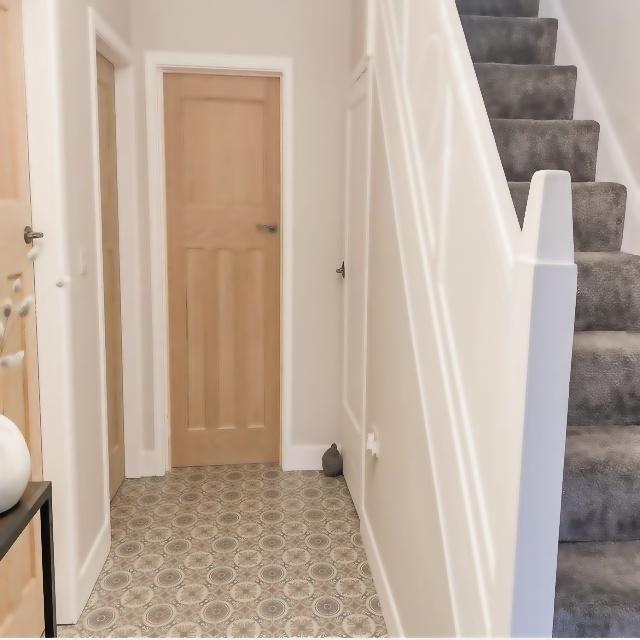door: (162, 69, 281, 467), (330, 51, 378, 502), (1, 0, 42, 490)
